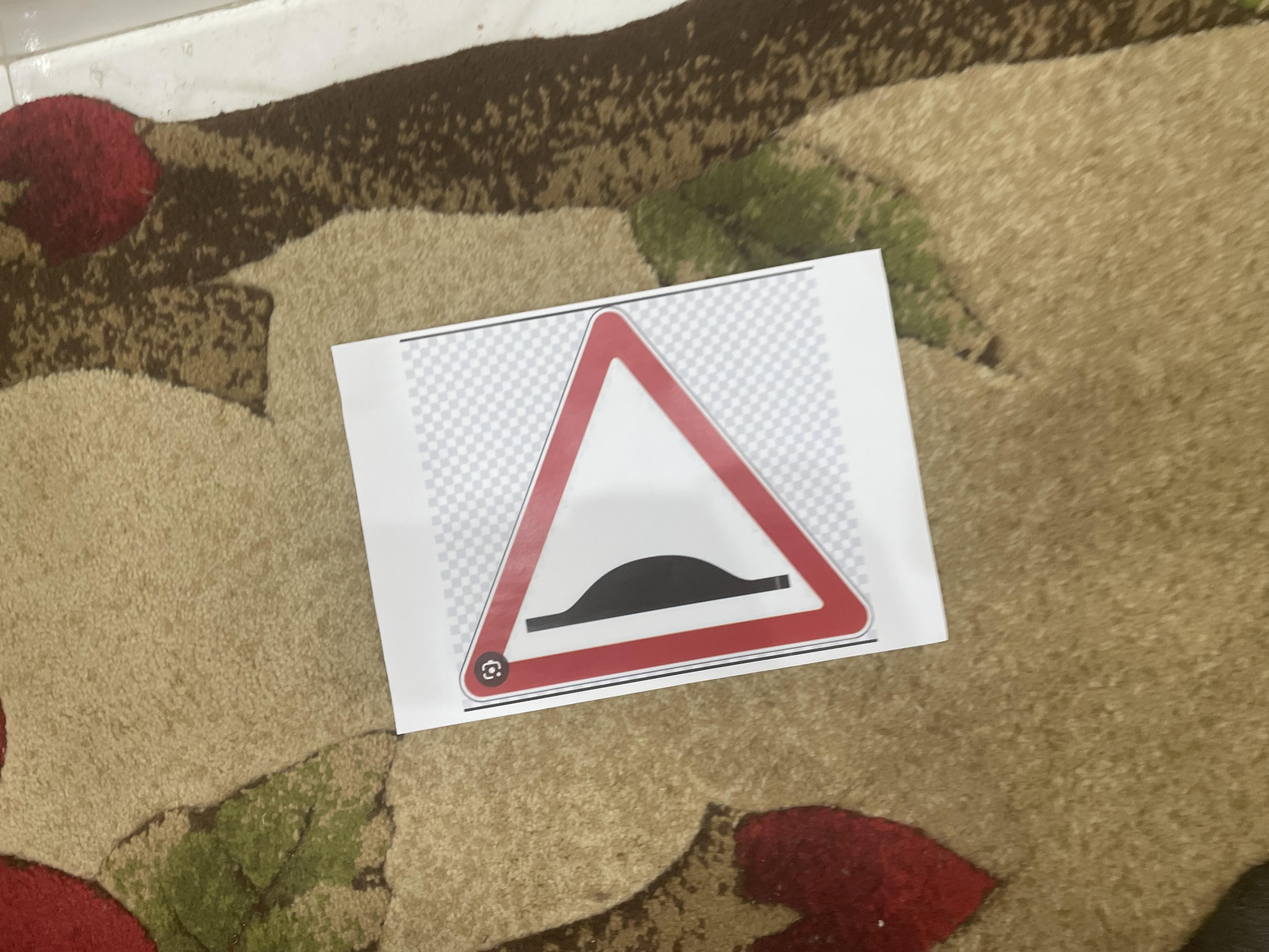Hump: (324, 338, 870, 657)
